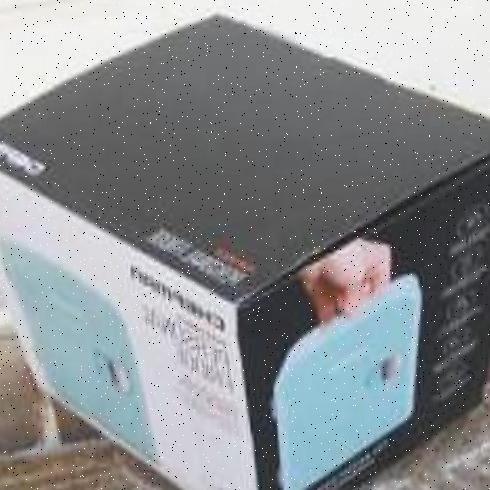Other: (0, 26, 490, 490)
